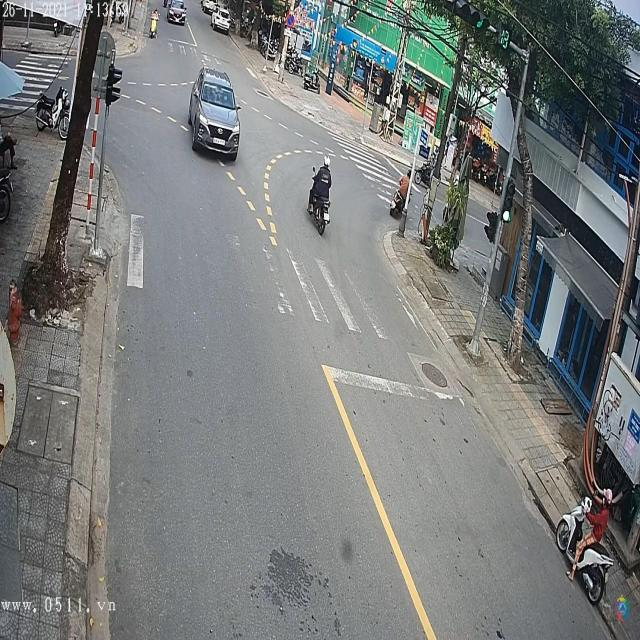car: (190, 67, 242, 161), (165, 1, 186, 26)
motorcycle: (557, 495, 613, 612), (307, 168, 335, 238)
